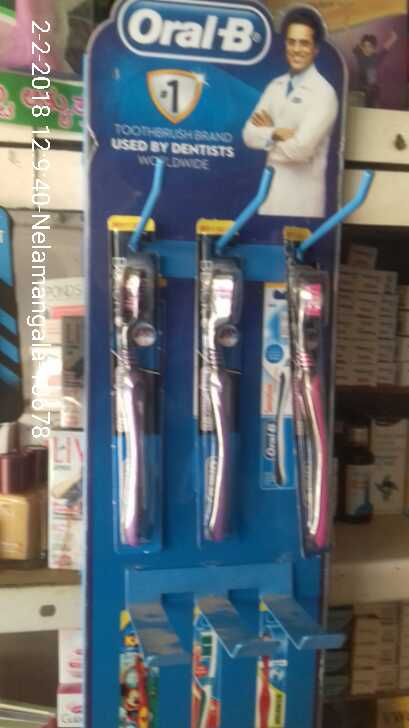oralb: (190, 261, 248, 542), (288, 259, 337, 555), (113, 262, 162, 540)
